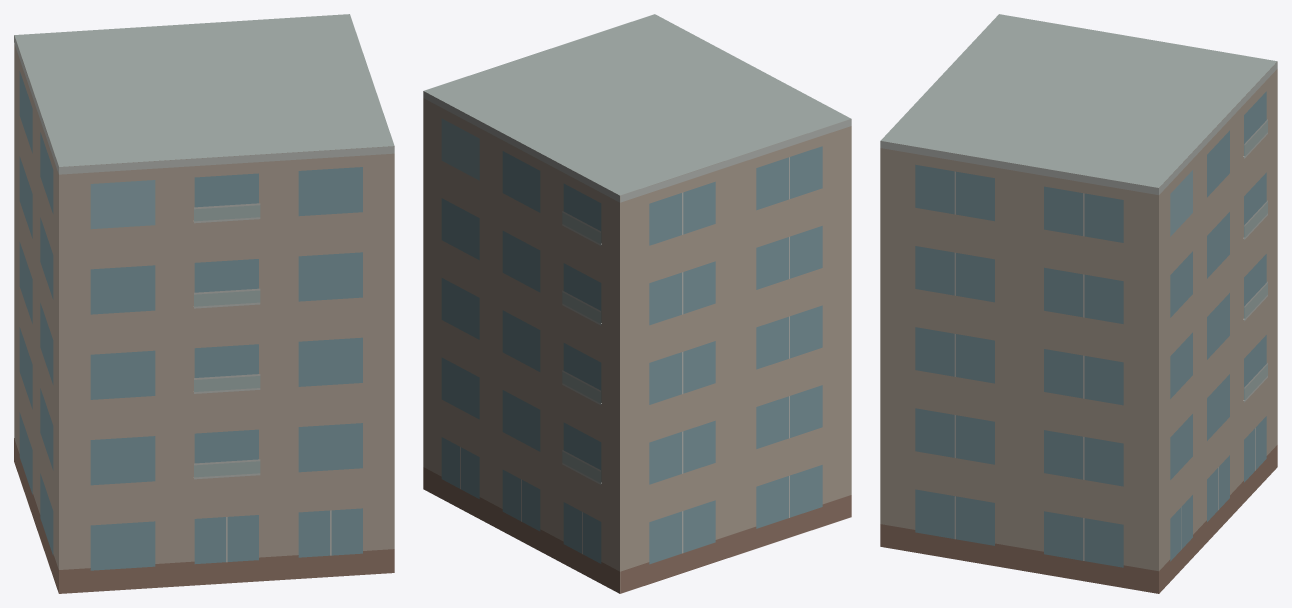
The model's file is survey-upis-32538688.glb.
The picture shows the model from 3 angles, left to right: view 1: azimuth 30°, elevation 25°; view 2: azimuth 150°, elevation 25°; view 3: azimuth 270°, elevation 25°; orthographic projection. The views are drawn at different scales.
Parts seen in each view (by area): view 1: survey-upis-32538688.tmp; view 2: survey-upis-32538688.tmp; view 3: survey-upis-32538688.tmp.
Boxes of the visible parts, box(x1,y1,x2,y2) form: survey-upis-32538688.tmp: box(14, 14, 394, 593); survey-upis-32538688.tmp: box(423, 14, 851, 593); survey-upis-32538688.tmp: box(880, 14, 1277, 593).
Bounding box in the file's own units: 12.6 × 13.7 × 12.16.
